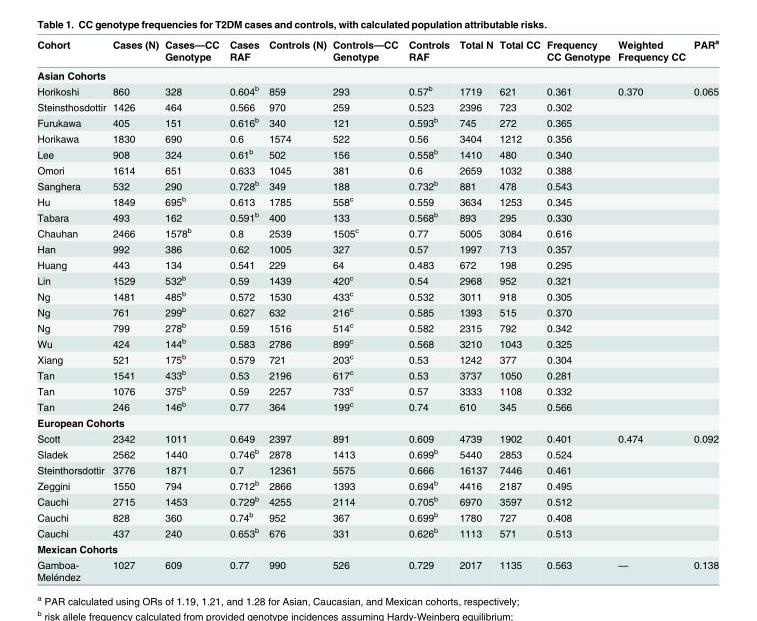table: (36, 36, 718, 582)
table column: (613, 36, 689, 582), (328, 36, 402, 582), (36, 36, 108, 582), (542, 36, 613, 582), (263, 36, 328, 582), (161, 36, 223, 582), (108, 36, 161, 582), (402, 36, 453, 582), (495, 36, 542, 582), (453, 36, 495, 582), (223, 36, 263, 582), (689, 36, 718, 582)
table column header: (36, 36, 718, 65)
table projected row header: (36, 65, 718, 82), (36, 414, 718, 430), (36, 540, 718, 556)
table row: (36, 36, 718, 65), (36, 556, 718, 582), (36, 65, 718, 82), (36, 113, 718, 130), (36, 82, 718, 98), (36, 145, 718, 161), (36, 161, 718, 177), (36, 192, 718, 208), (36, 208, 718, 224), (36, 224, 718, 240), (36, 240, 718, 256), (36, 271, 718, 287), (36, 287, 718, 303), (36, 303, 718, 319), (36, 334, 718, 350), (36, 350, 718, 366), (36, 366, 718, 382), (36, 382, 718, 398), (36, 398, 718, 414), (36, 414, 718, 430), (36, 445, 718, 461), (36, 476, 718, 492), (36, 492, 718, 508), (36, 508, 718, 524), (36, 524, 718, 540), (36, 540, 718, 556), (36, 98, 718, 113), (36, 130, 718, 145), (36, 177, 718, 192), (36, 256, 718, 271), (36, 319, 718, 334), (36, 430, 718, 445), (36, 461, 718, 476)
